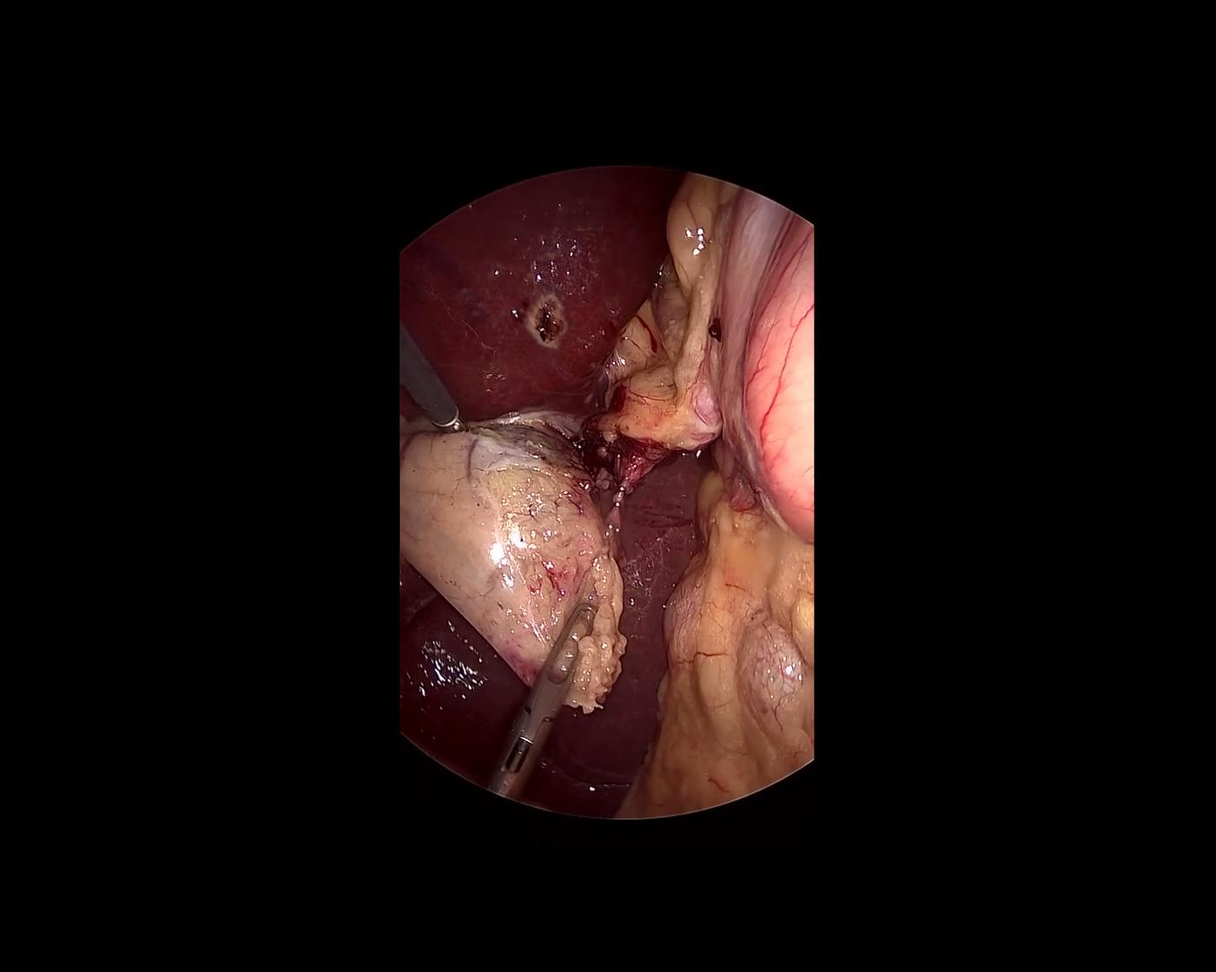Forceps: (483, 591, 606, 804), (371, 318, 474, 453)
Gallbladder: (394, 419, 623, 716)
Liver: (356, 388, 715, 822), (396, 165, 694, 423)
